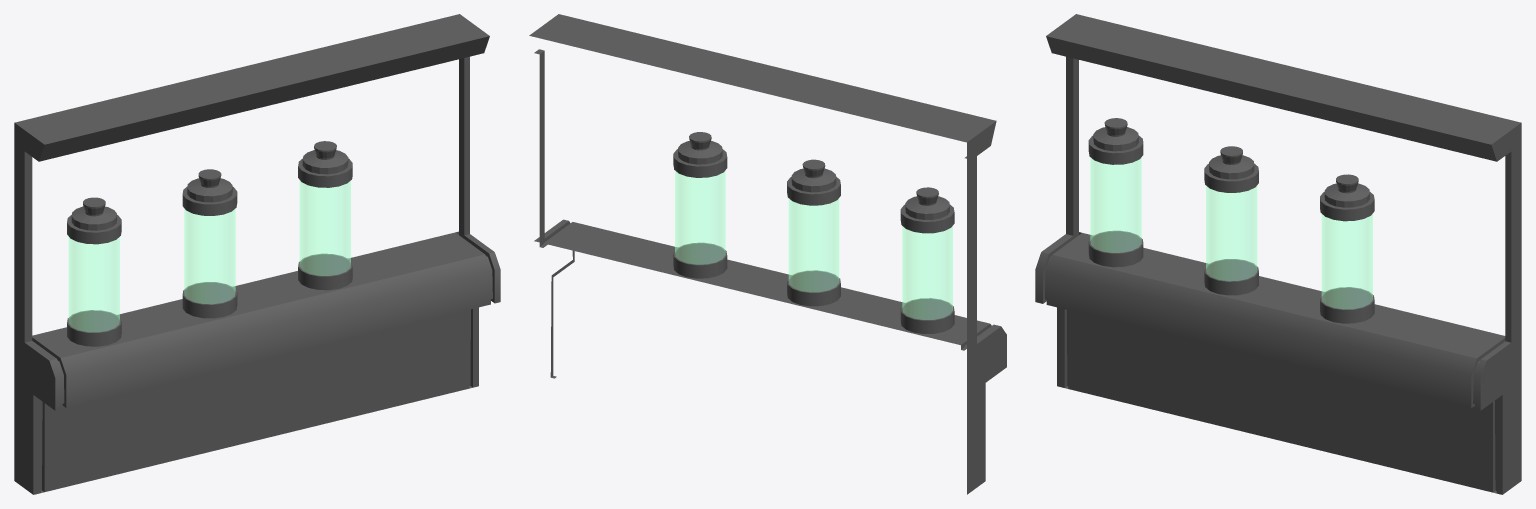
The model's file is tube_glass2.glb.
3 views of the same model, side by side, from view 1: azimuth 30°, elevation 25°; view 2: azimuth 150°, elevation 25°; view 3: azimuth 330°, elevation 25° (orthographic).
Visible parts, largest first — view 1: Cylinder4015_Material #851_0; view 2: Cylinder4015_Material #851_0; view 3: Cylinder4015_Material #851_0.
Part boxes in pixels (x1,y1,x2,y2): Cylinder4015_Material #851_0: (14,14,500,494); Cylinder4015_Material #851_0: (529,14,1006,494); Cylinder4015_Material #851_0: (1035,14,1521,494).
Size of the model in its own units: 45.64 by 35.09 by 7.23.
